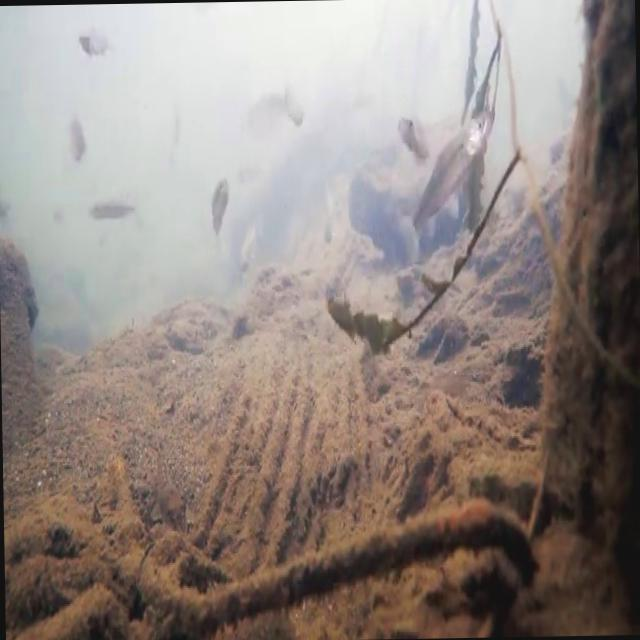Cakil Baligi: (412, 108, 494, 231), (85, 188, 138, 228), (208, 172, 235, 236)
